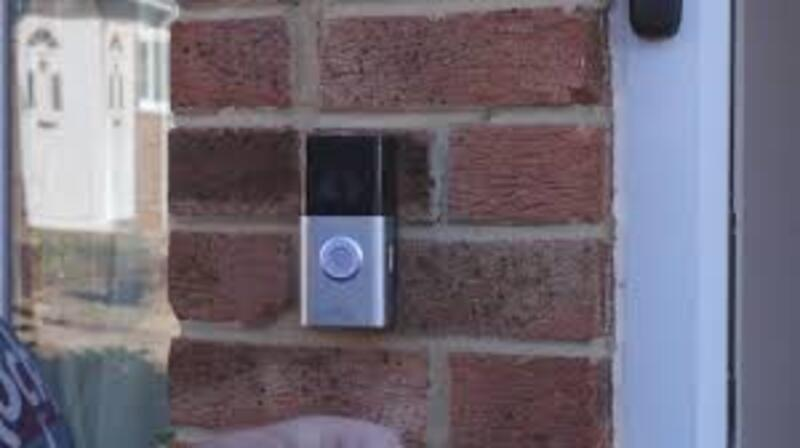doorbell: (295, 125, 401, 337)
